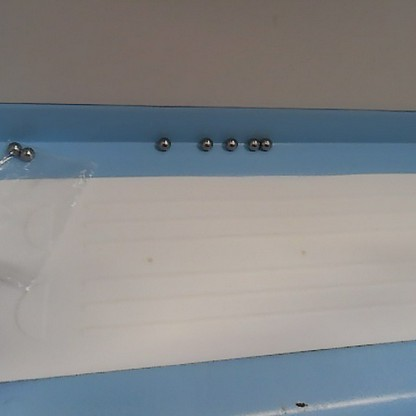ironball: (153, 136, 175, 154), (197, 135, 216, 154), (17, 145, 37, 163), (256, 135, 273, 153), (221, 136, 240, 152), (245, 135, 260, 153), (5, 140, 21, 156)
